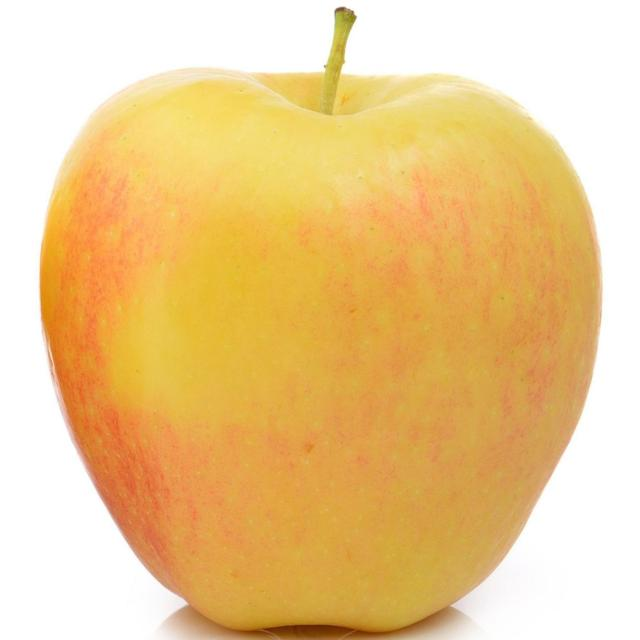Apel: (38, 44, 604, 634)
